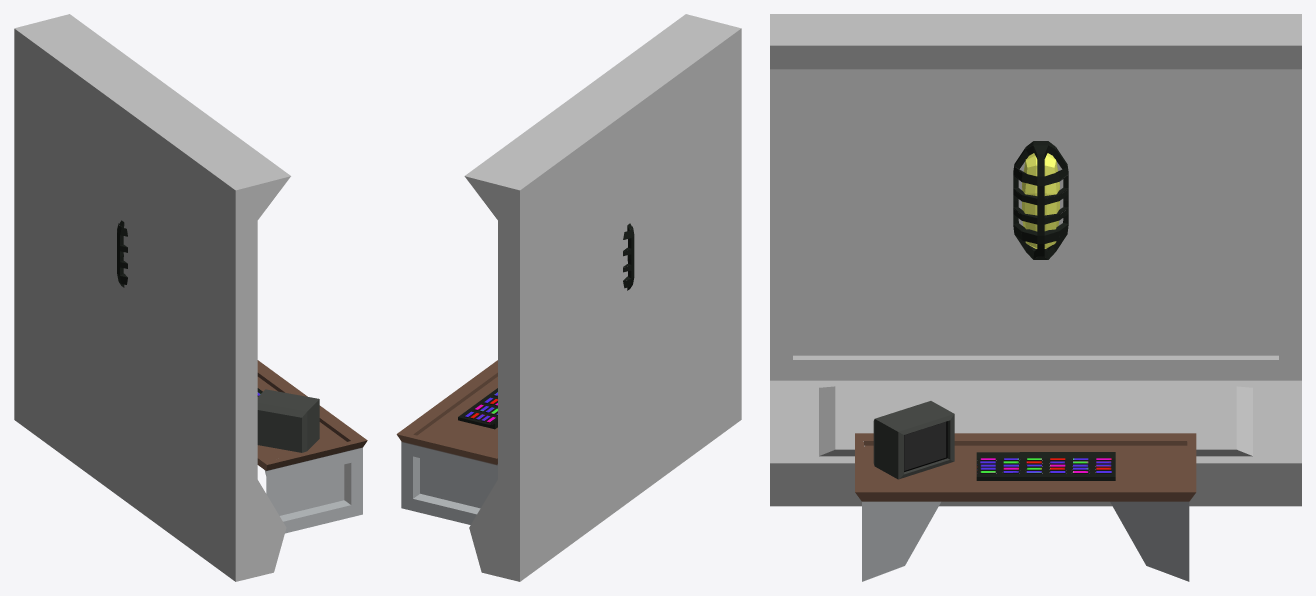
File: NaveWall.fbx
3 views of the same model, side by side, from view 1: azimuth 30°, elevation 25°; view 2: azimuth 150°, elevation 25°; view 3: azimuth 270°, elevation 25° (orthographic). The views are drawn at different scales.
Visible parts, largest first — view 1: Wall, Mesa, Pc, Light; view 2: Wall, Mesa, Teclado, Light; view 3: Wall, Mesa, Pc, Light, Teclado, Cube.001.
Boxes of the visible parts, x1,y1,x2,y2 form: Wall: [14, 14, 290, 581]; Mesa: [257, 360, 367, 533]; Pc: [257, 389, 319, 452]; Light: [117, 220, 127, 287]; Wall: [464, 14, 741, 581]; Mesa: [396, 360, 497, 524]; Teclado: [458, 388, 497, 429]; Light: [623, 223, 634, 290]; Wall: [770, 14, 1301, 506]; Mesa: [855, 433, 1196, 581]; Pc: [873, 401, 954, 479]; Light: [1013, 141, 1068, 259]; Teclado: [976, 452, 1115, 480]; Cube.001: [1022, 153, 1059, 248].
Bounding box in the file's own units: 896 × 1959 × 2000.
